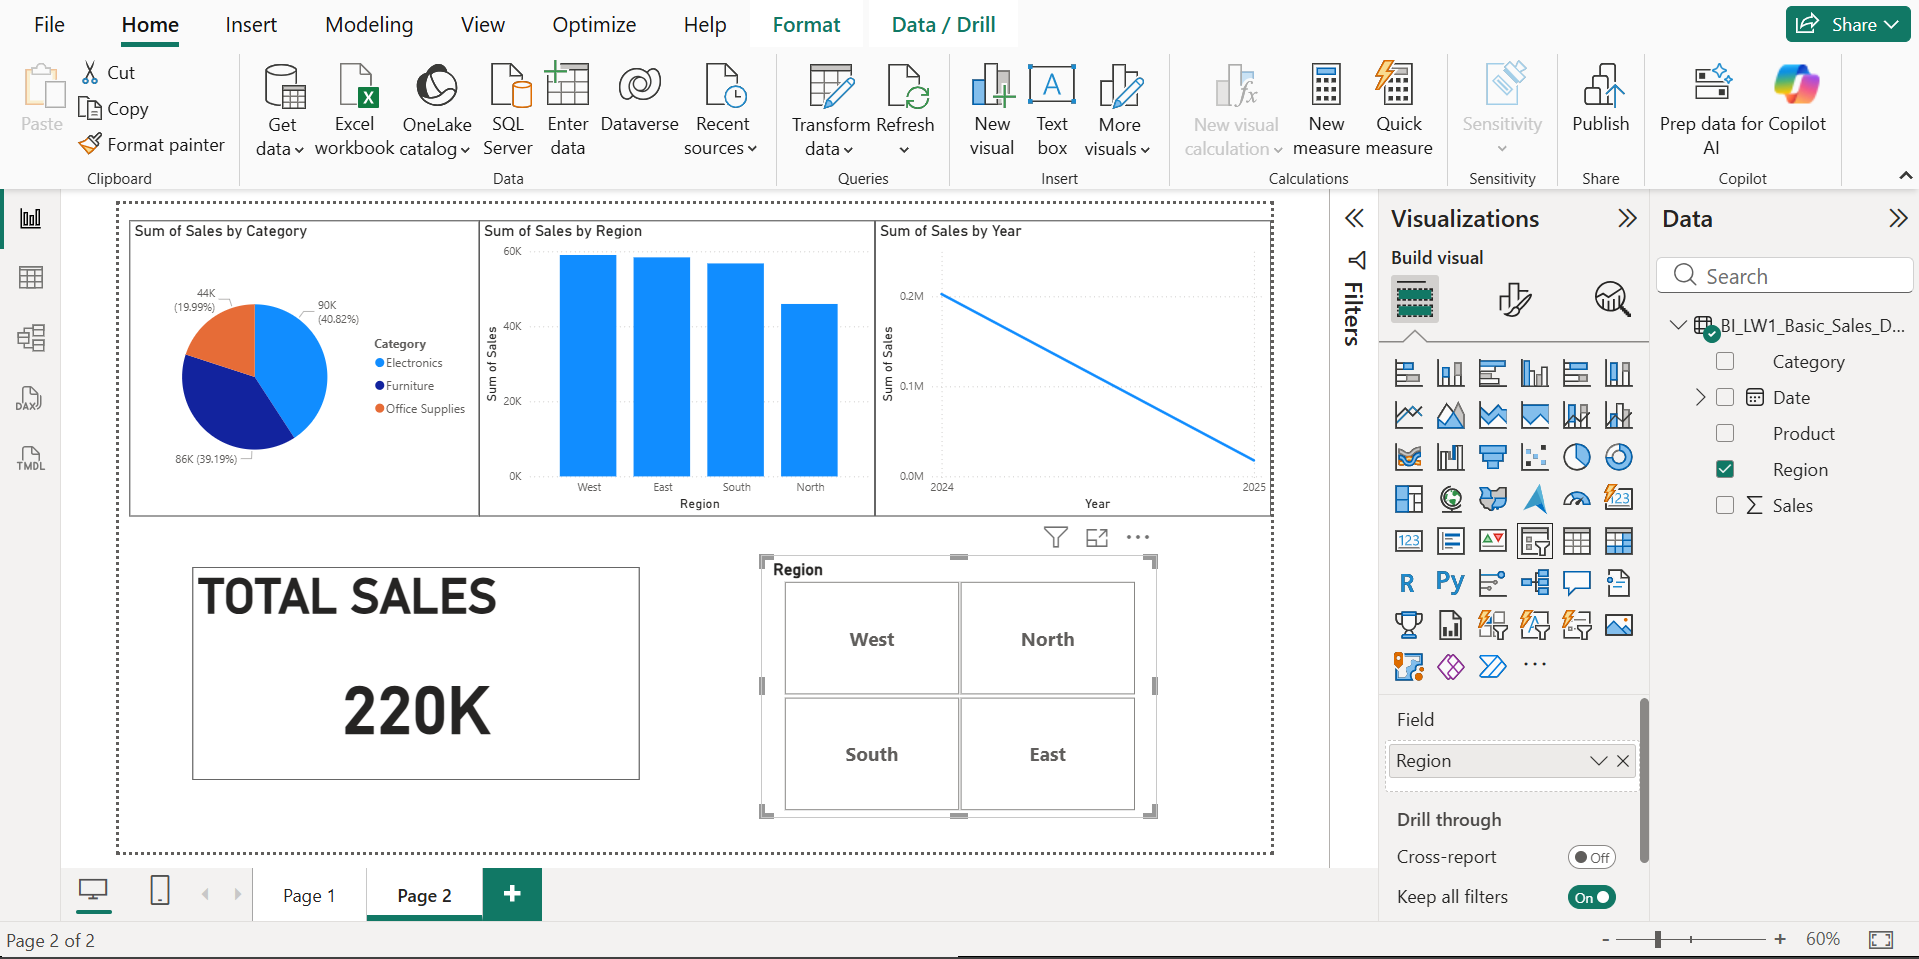

The page's visual inventory and layout, read from the dashboard file:
{"tool":"powerbi","page":{"name":"Page 2","canvas":[1280,720],"ordinal":1},"visuals":[{"type":"card","title":"Total Sales","fields":{"Values":["Sum(BI_LW1_Basic_Sales_Data.Sales)"]},"box":[419.4,397.2,352.8,283.3],"z":0},{"type":"clusteredColumnChart","fields":{"Category":["BI_LW1_Basic_Sales_Data.Region"],"Y":["Sum(BI_LW1_Basic_Sales_Data.Sales)"]},"box":[22.2,27.8,375,333.3],"z":1000},{"type":"pieChart","fields":{"Category":["BI_LW1_Basic_Sales_Data.Category"],"Y":["Sum(BI_LW1_Basic_Sales_Data.Sales)"]},"box":[397.2,27.8,375,330.6],"z":2000},{"type":"lineChart","fields":{"Category":["BI_LW1_Basic_Sales_Data.Date.Variation.Date Hierarchy.Year","BI_LW1_Basic_Sales_Data.Date.Variation.Date Hierarchy.Quarter","BI_LW1_Basic_Sales_Data.Date.Variation.Date Hierarchy.Month","BI_LW1_Basic_Sales_Data.Date.Variation.Date Hierarchy.Day"],"Y":["Sum(BI_LW1_Basic_Sales_Data.Sales)"]},"box":[22,371,375,333],"z":2001},{"type":"slicer","fields":{"Values":["BI_LW1_Basic_Sales_Data.Region"]},"box":[838.5,209.2,375.4,329.2],"z":2002}]}

Visuals, with their boxes on the page's 1280x720 design canvas (x1, y1, x2, y2). These are canvas units, not pixel positions in the 1919x959 screenshot, which may show the page scaled, cropped or inside an application window:
"Total Sales" card: (419,397,772,680)
clusteredColumnChart - BI_LW1_Basic_Sales_Data.Region x Sum(BI_LW1_Basic_Sales_Data.Sales): (22,28,397,361)
pieChart - BI_LW1_Basic_Sales_Data.Category x Sum(BI_LW1_Basic_Sales_Data.Sales): (397,28,772,358)
lineChart - BI_LW1_Basic_Sales_Data.Date.Variation.Date Hierarchy.Year x BI_LW1_Basic_Sales_Data.Date.Variation.Date Hierarchy.Quarter: (22,371,397,704)
slicer - BI_LW1_Basic_Sales_Data.Region: (838,209,1214,538)
